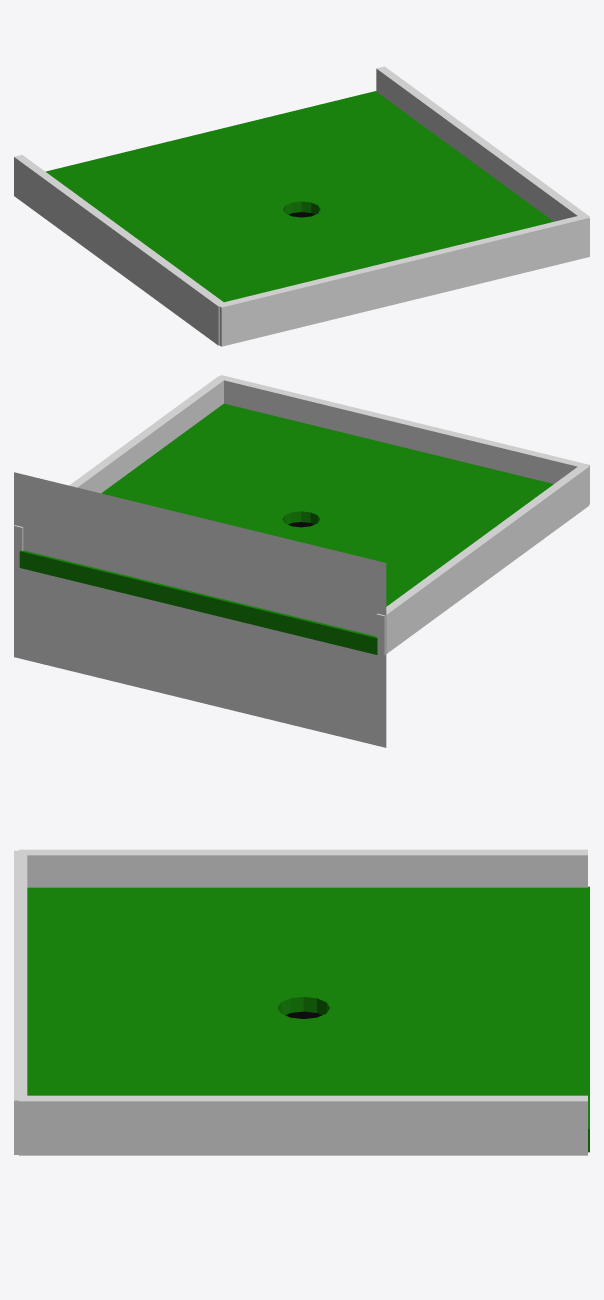
The model's file is hole.glb.
3 renders of one model, top to bottom at view 1: azimuth 30°, elevation 25°; view 2: azimuth 150°, elevation 25°; view 3: azimuth 270°, elevation 25°, orthographic. The views are drawn at different scales.
Visible parts, largest first — view 1: Cube, Cube.003, Cube.001, Cube.002; view 2: obj_snap.001, Cube, Cube.001, Cube.003, Cube.002; view 3: Cube, Cube.002, Cube.001, Cube.003.
Part boxes in pixels (x1,y1,x2,y2): Cube: (46,91,553,302); Cube.003: (217,214,589,346); Cube.001: (14,155,223,345); Cube.002: (376,66,589,221); obj_snap.001: (14,472,386,747); Cube: (19,403,553,654); Cube.001: (376,465,589,655); Cube.003: (217,375,589,504); Cube.002: (14,376,224,566); Cube: (27,886,589,1152); Cube.002: (19,1095,587,1155); Cube.001: (19,849,587,887); Cube.003: (14,850,27,1154).
Bounding box in the file's own units: 4.21 × 2 × 4.06.
